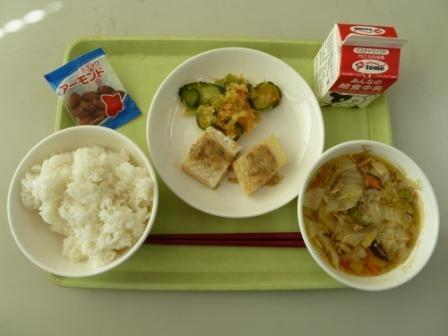Milk: (308, 20, 409, 109)
Rice: (8, 132, 169, 271)
Salad: (177, 67, 282, 134)
Soups: (296, 143, 439, 284)
snacks: (178, 129, 296, 197)
